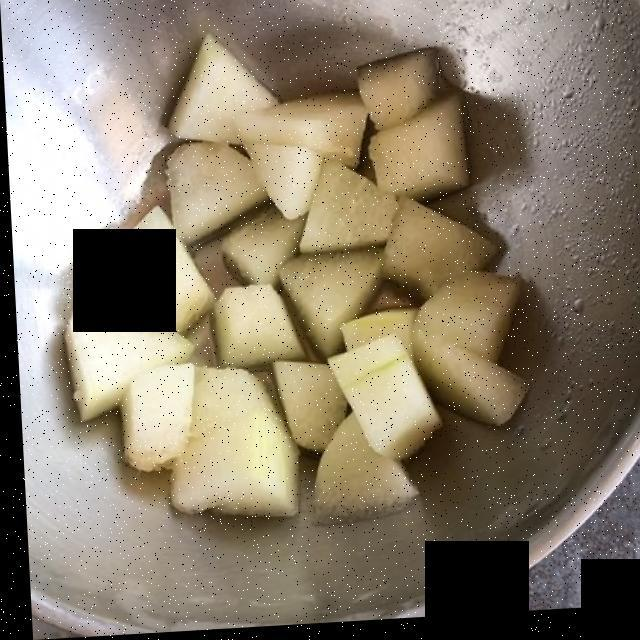melon: (71, 51, 513, 521)
